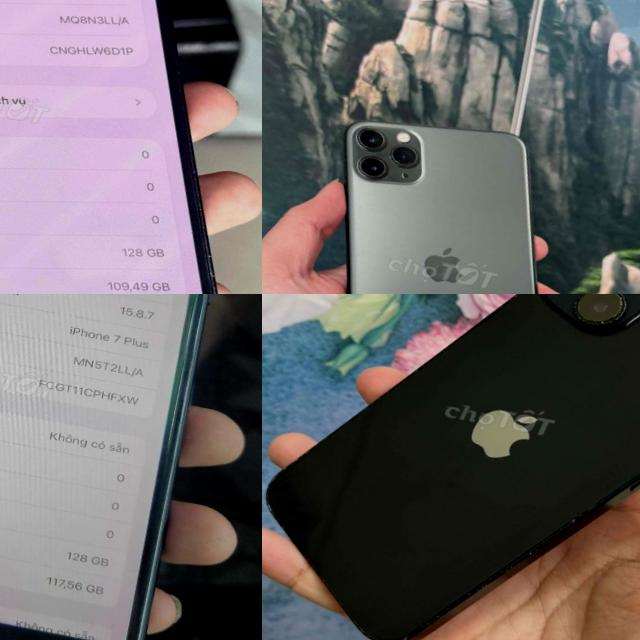scratch: (177, 294, 231, 369)
